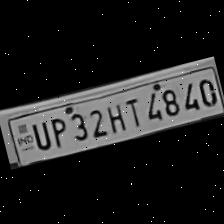0: (192, 72, 218, 108)
2: (82, 102, 108, 138)
3: (62, 105, 90, 143)
4: (136, 86, 164, 124), (174, 77, 200, 112)
8: (154, 81, 180, 117)
H: (100, 97, 128, 134)
P: (43, 110, 70, 148)
T: (120, 93, 144, 129)
U: (26, 116, 52, 152)
